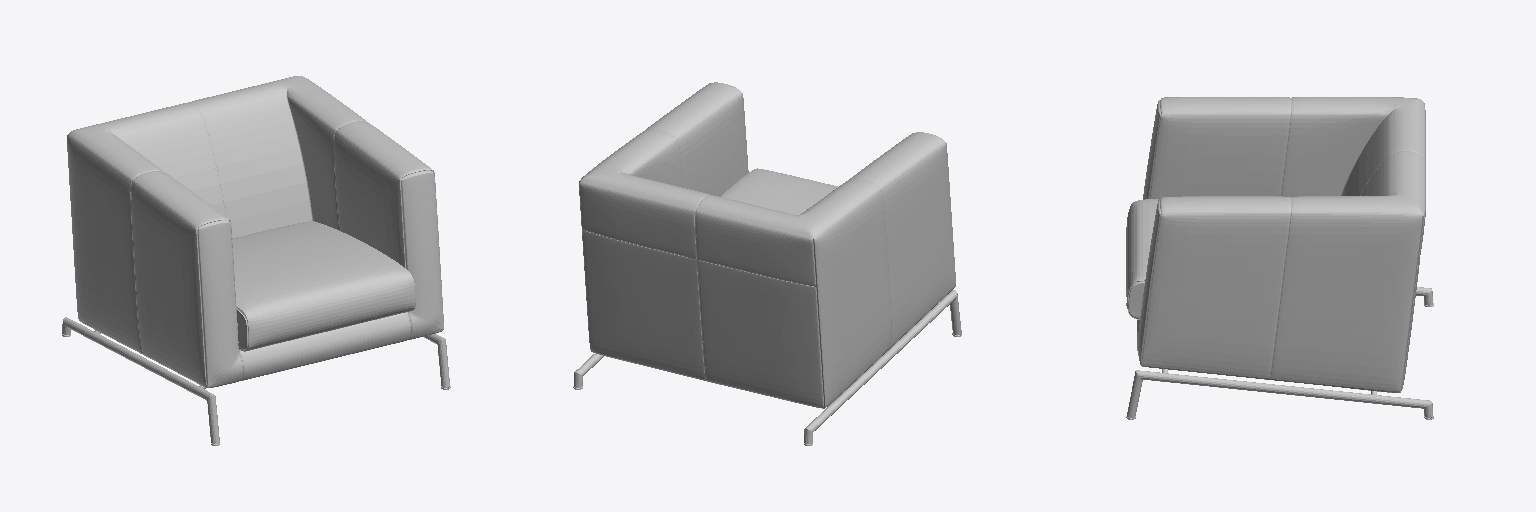
The model's file is armchair 004.obj.
3 views of the same model, side by side, from view 1: azimuth 30°, elevation 25°; view 2: azimuth 150°, elevation 25°; view 3: azimuth 270°, elevation 25° (orthographic).
Parts seen in each view (by area): view 1: obj_01, obj_02, obj_03; view 2: obj_01, obj_02, obj_03; view 3: obj_01, obj_03, obj_02.
Boxes of the visible parts, box(x1,y1,x2,y2) form: obj_01: box(67, 76, 443, 387); obj_02: box(232, 221, 415, 351); obj_03: box(62, 317, 450, 445); obj_01: box(579, 82, 955, 408); obj_02: box(721, 168, 837, 214); obj_03: box(573, 290, 961, 445); obj_01: box(1137, 97, 1425, 392); obj_03: box(1126, 287, 1433, 419); obj_02: box(1126, 199, 1158, 319).
Bounding box in the file's own units: 36.04 × 29.8 × 39.36.